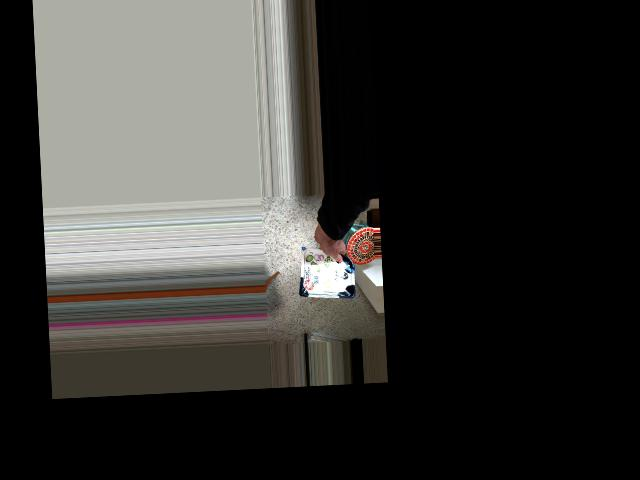cheese: (297, 225, 356, 289)
